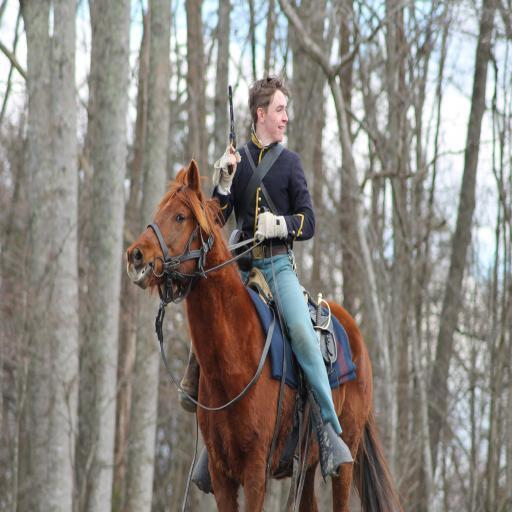horse: (126, 158, 405, 512)
